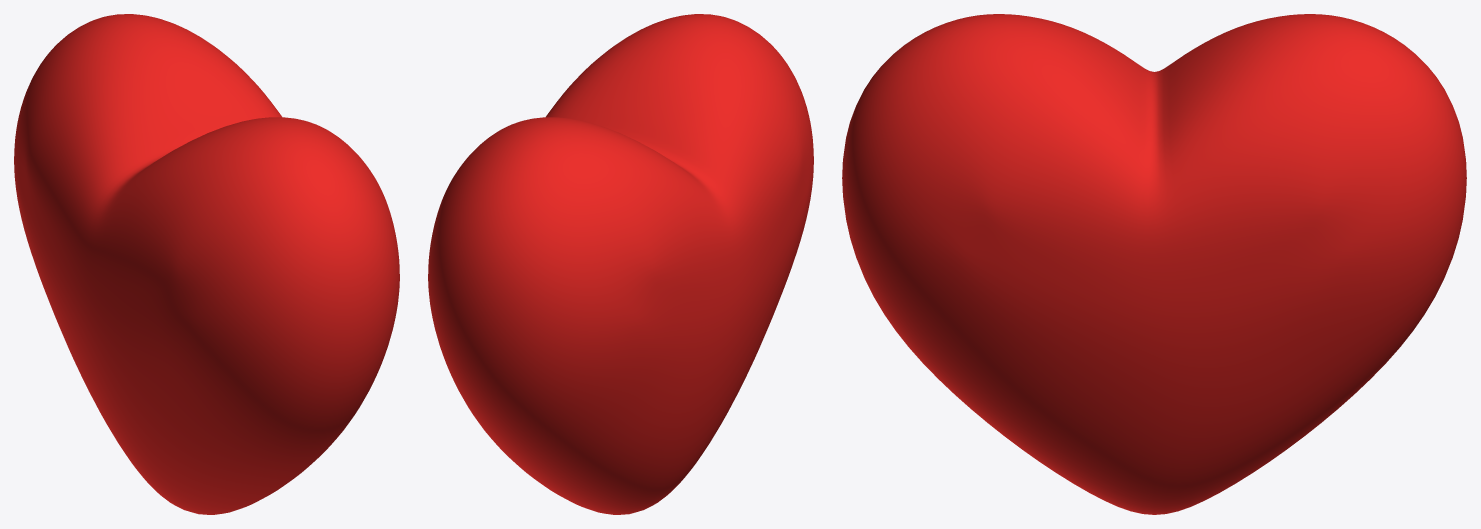
File: heart.glb
The picture shows the model from 3 angles, left to right: view 1: azimuth 30°, elevation 25°; view 2: azimuth 150°, elevation 25°; view 3: azimuth 270°, elevation 25°; orthographic projection. The views are drawn at different scales.
Parts seen in each view (by area): view 1: Heart; view 2: Heart; view 3: Heart.
Part boxes in pixels (x1,y1,x2,y2): Heart: [14, 14, 399, 514]; Heart: [428, 14, 813, 514]; Heart: [842, 14, 1466, 514].
Size of the model in its own units: 0.3338 by 0.5933 by 0.6936.
